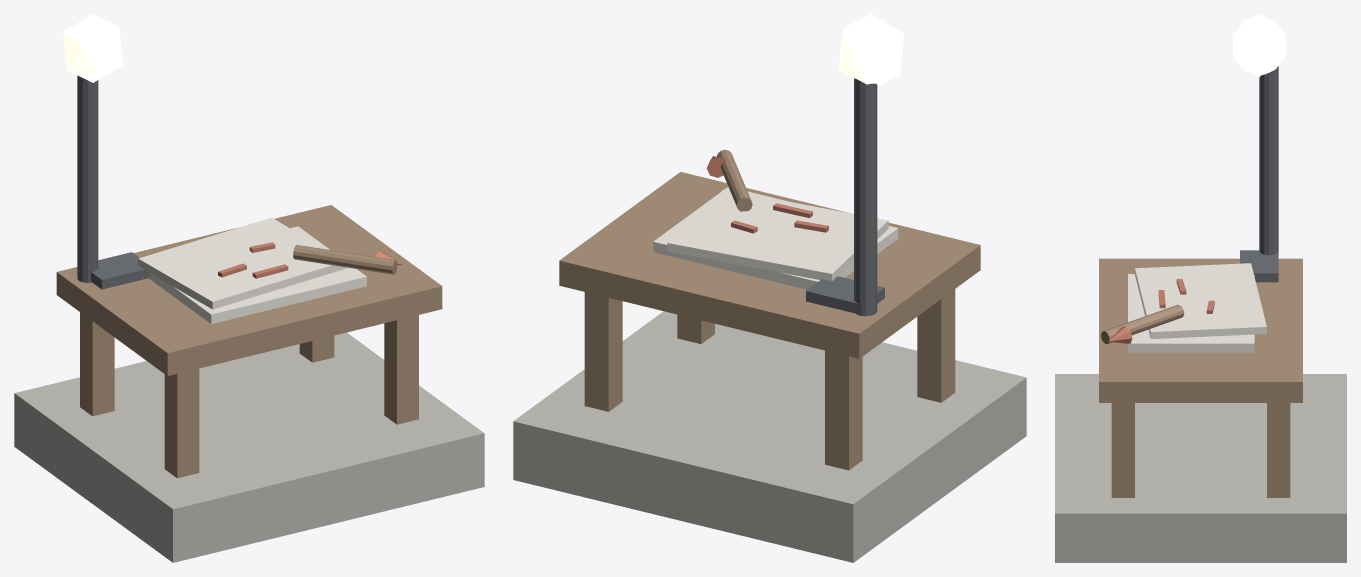
File: LM22_ProofDesk.glb
3 renders of one model, left to right at view 1: azimuth 30°, elevation 25°; view 2: azimuth 150°, elevation 25°; view 3: azimuth 270°, elevation 25°, orthographic. The views are drawn at different scales.
Parts seen in each view (by area): view 1: Base.008, DeskTop, Paper2, LampPole, Paper1, Leg-0.6-0.4, Leg0.6-0.4, Leg-0.60.4, LampHead, BrushWood, InkStone, Leg0.60.4; view 2: Base.008, DeskTop, Paper2, LampPole, Leg0.60.4, Leg-0.60.4, Leg-0.6-0.4, LampHead, Paper1, InkStone, BrushWood, Leg0.6-0.4; view 3: Base.008, DeskTop, Paper2, LampPole, Paper1, LampHead, Leg0.6-0.4, Leg0.60.4, BrushWood, InkStone.
Boxes of the visible parts, left/top/right/bottom form: Base.008: left=14, top=332, right=484, bottom=562; DeskTop: left=56, top=205, right=442, bottom=375; Paper2: left=138, top=217, right=346, bottom=309; LampPole: left=77, top=75, right=98, bottom=282; Paper1: left=149, top=226, right=366, bottom=323; Leg-0.6-0.4: left=164, top=368, right=199, bottom=478; Leg0.6-0.4: left=384, top=315, right=418, bottom=424; Leg-0.60.4: left=80, top=312, right=114, bottom=416; LampHead: left=63, top=14, right=123, bottom=82; BrushWood: left=293, top=245, right=397, bottom=274; InkStone: left=91, top=252, right=150, bottom=289; Leg0.60.4: left=299, top=335, right=334, bottom=362; Base.008: left=513, top=311, right=1026, bottom=562; DeskTop: left=559, top=172, right=980, bottom=358; Paper2: left=667, top=189, right=888, bottom=281; LampPole: left=854, top=78, right=877, bottom=316; Leg0.60.4: left=584, top=292, right=622, bottom=411; Leg-0.60.4: left=825, top=350, right=862, bottom=470; Leg-0.6-0.4: left=917, top=289, right=955, bottom=402; LampHead: left=838, top=14, right=904, bottom=86; Paper1: left=653, top=187, right=898, bottom=289; InkStone: left=806, top=276, right=884, bottom=314; BrushWood: left=717, top=149, right=752, bottom=211; Leg0.6-0.4: left=677, top=314, right=714, bottom=343; Base.008: left=1055, top=374, right=1346, bottom=562; DeskTop: left=1099, top=258, right=1302, bottom=402; Paper2: left=1135, top=263, right=1266, bottom=338; LampPole: left=1259, top=66, right=1278, bottom=255; Paper1: left=1128, top=274, right=1254, bottom=352; LampHead: left=1233, top=14, right=1285, bottom=77; Leg0.6-0.4: left=1111, top=403, right=1134, bottom=497; Leg0.60.4: left=1267, top=403, right=1290, bottom=497; BrushWood: left=1101, top=304, right=1184, bottom=343; InkStone: left=1240, top=250, right=1278, bottom=282.
Bounding box in the file's own units: 1.7 × 2.4 × 1.5.
